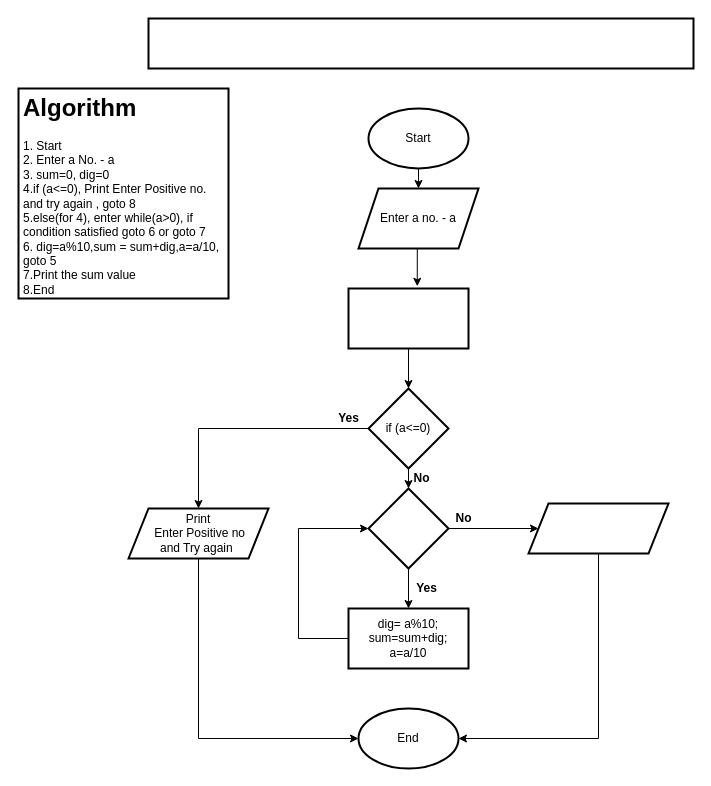
Image size: 711x786. Some labels were removed from this diagram. The centre of each missing label's shape, as x and y in pixels:
"dig= 0 sum=0" belongs at point (408, 318).
"Print sum" belongs at point (598, 528).
"Sum of Digits of Entered No." belongs at point (420, 43).
"while(a>0)" belongs at point (408, 528).
